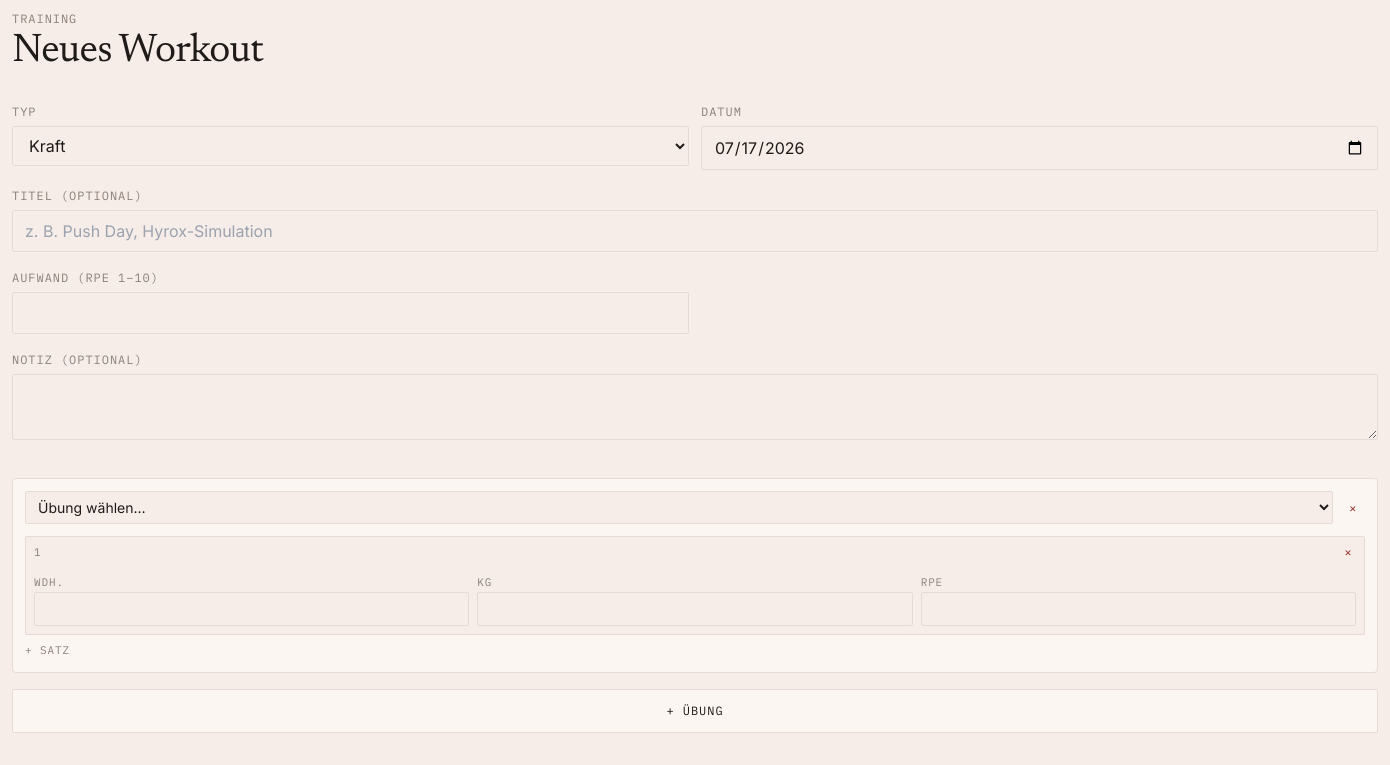
Test: WorkoutLogger — typspezifischer Body › Typ "hyrox" zeigt Gesamtzeit-Feld (HyroxLogger-Marker)
Select "Hyrox" in the dropdown labelled "Typ": (350, 146) [12,126,689,166]
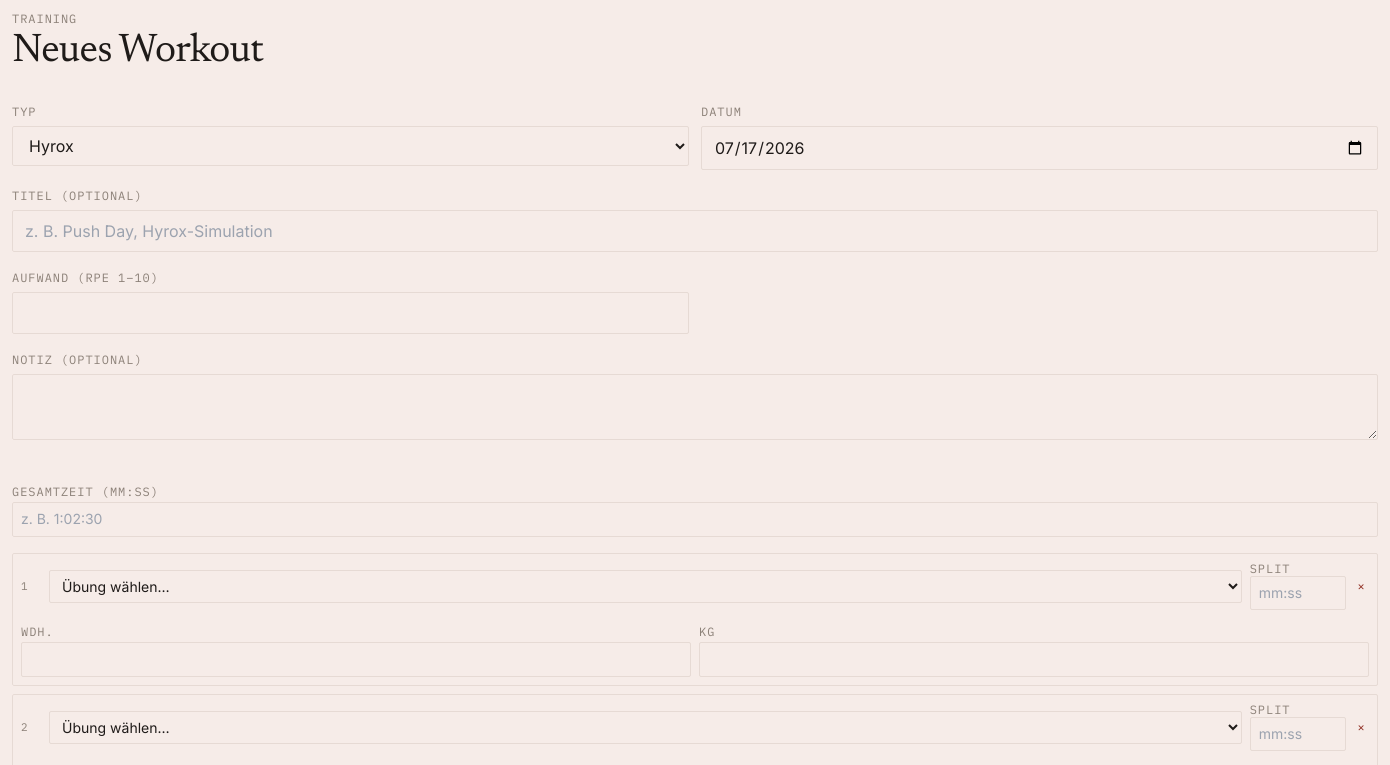
Expected: the field labelled "Gesamtzeit (mm:ss)" is shown, [12,502,1378,537]
